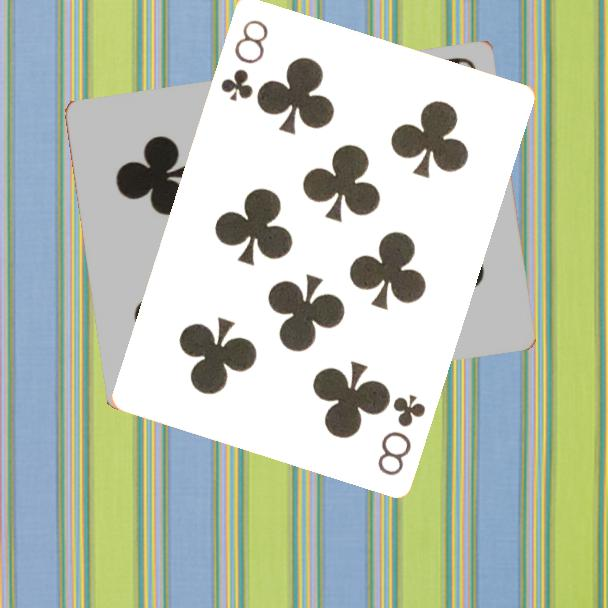c08: (373, 390, 429, 478), (216, 15, 271, 104)
